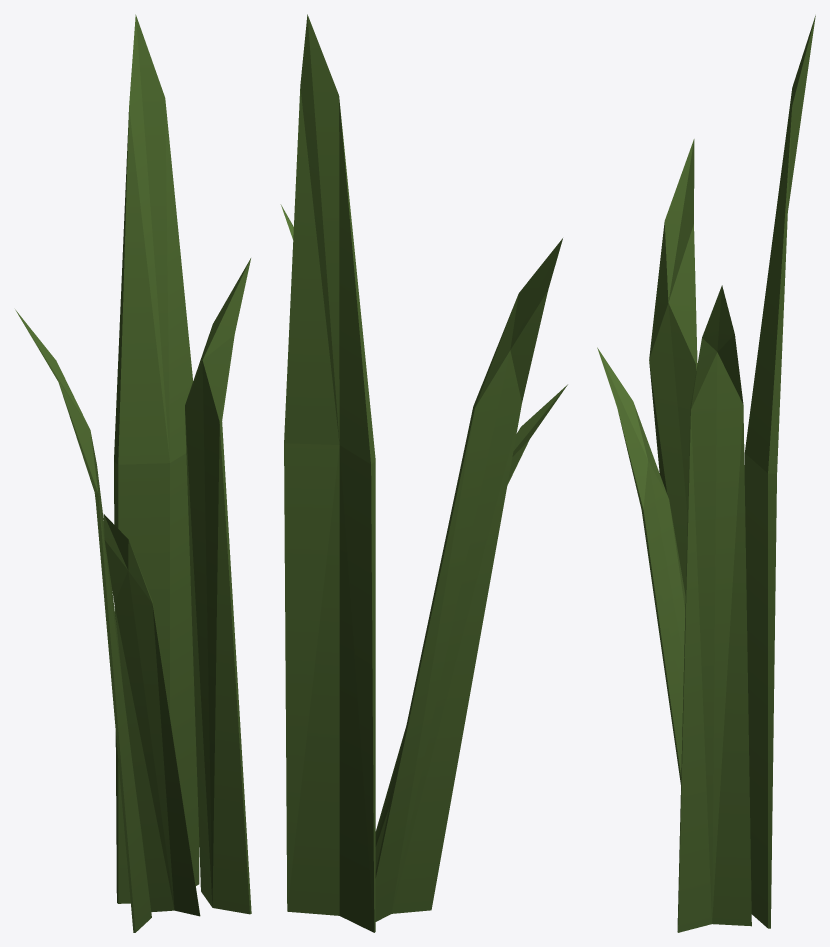
File: Env_Grass_Patch_Green_01.obj
3 renders of one model, left to right at view 1: azimuth 30°, elevation 25°; view 2: azimuth 150°, elevation 25°; view 3: azimuth 270°, elevation 25°, orthographic. The views are drawn at different scales.
Parts seen in each view (by area): view 1: Env_Grass_Patch_Green_01; view 2: Env_Grass_Patch_Green_01; view 3: Env_Grass_Patch_Green_01.
Part boxes in pixels (x1,y1,x2,y2): Env_Grass_Patch_Green_01: [15, 14, 251, 932]; Env_Grass_Patch_Green_01: [280, 14, 567, 932]; Env_Grass_Patch_Green_01: [597, 15, 815, 932].
Size of the model in its own units: 0.1145 by 0.3771 by 0.0837.
Materials: 1 (1 with a texture image).
